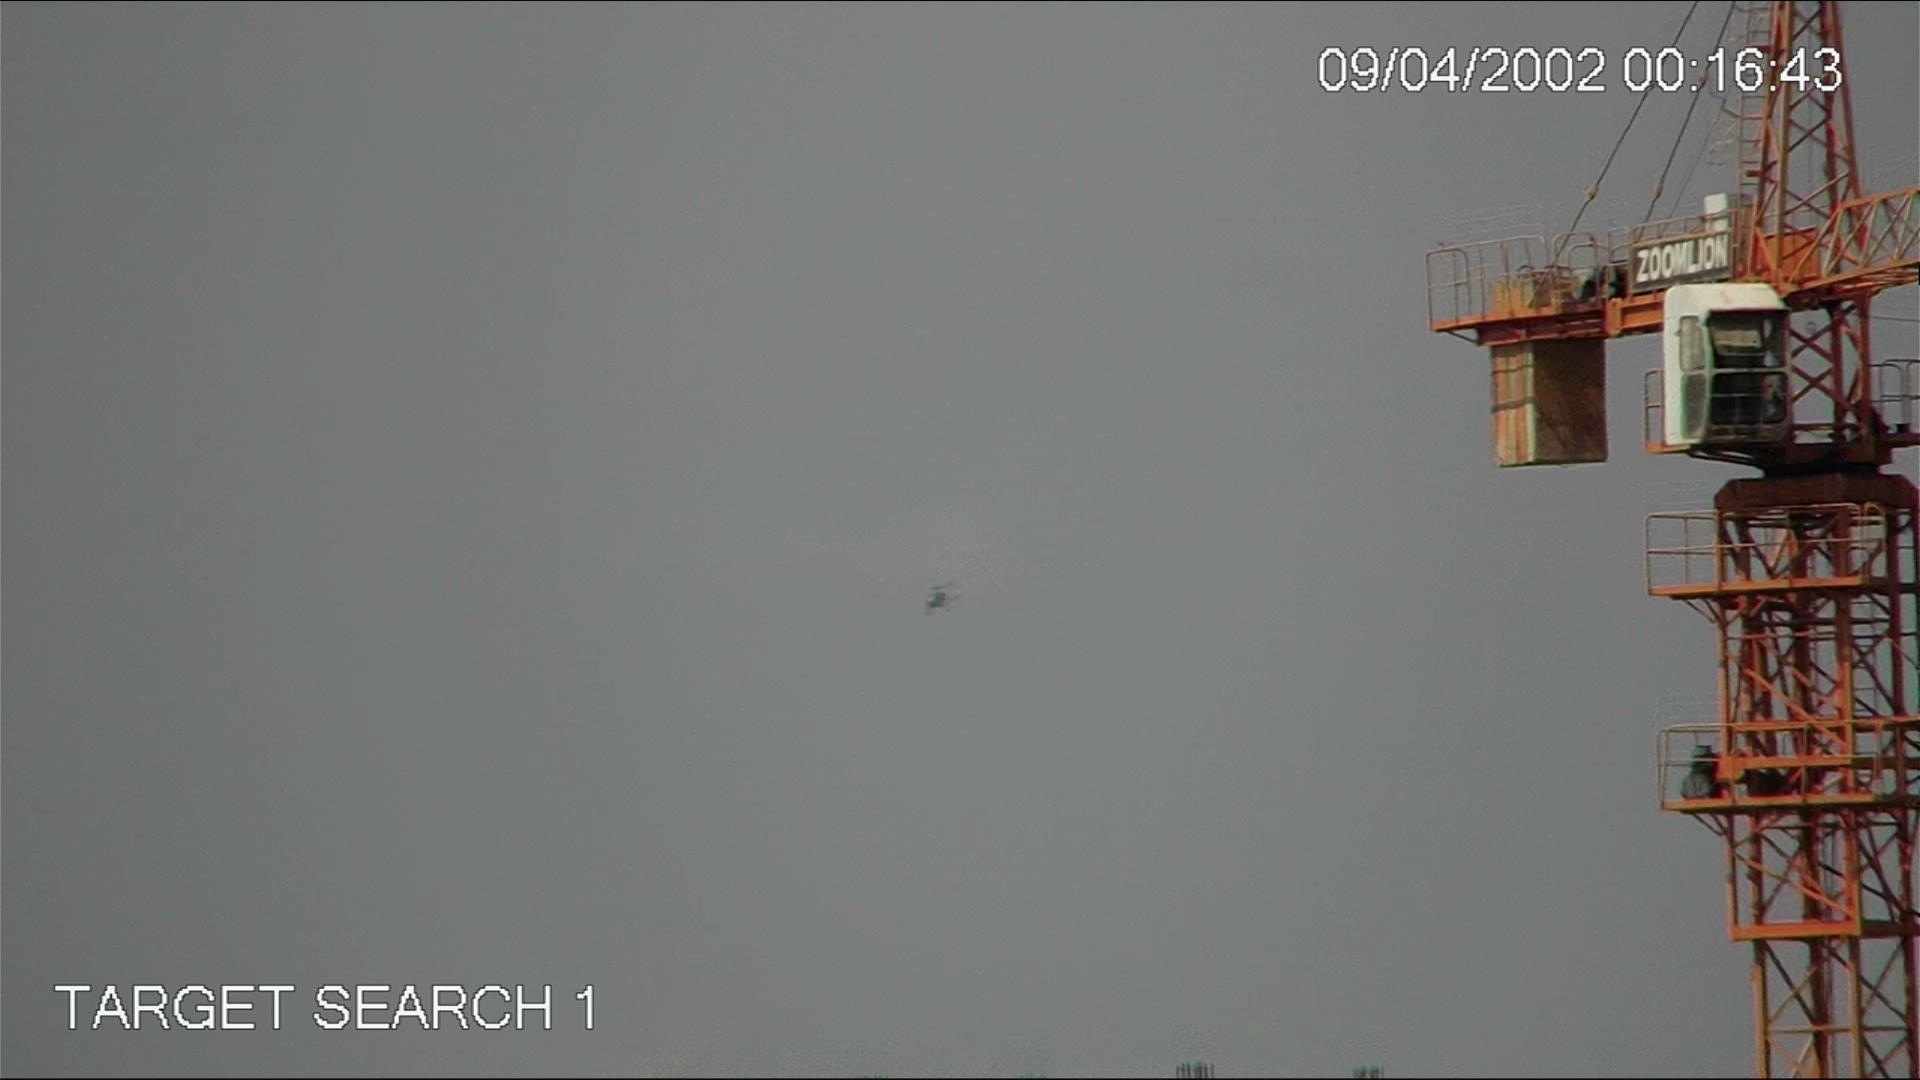SU_30: (919, 587, 952, 611)
